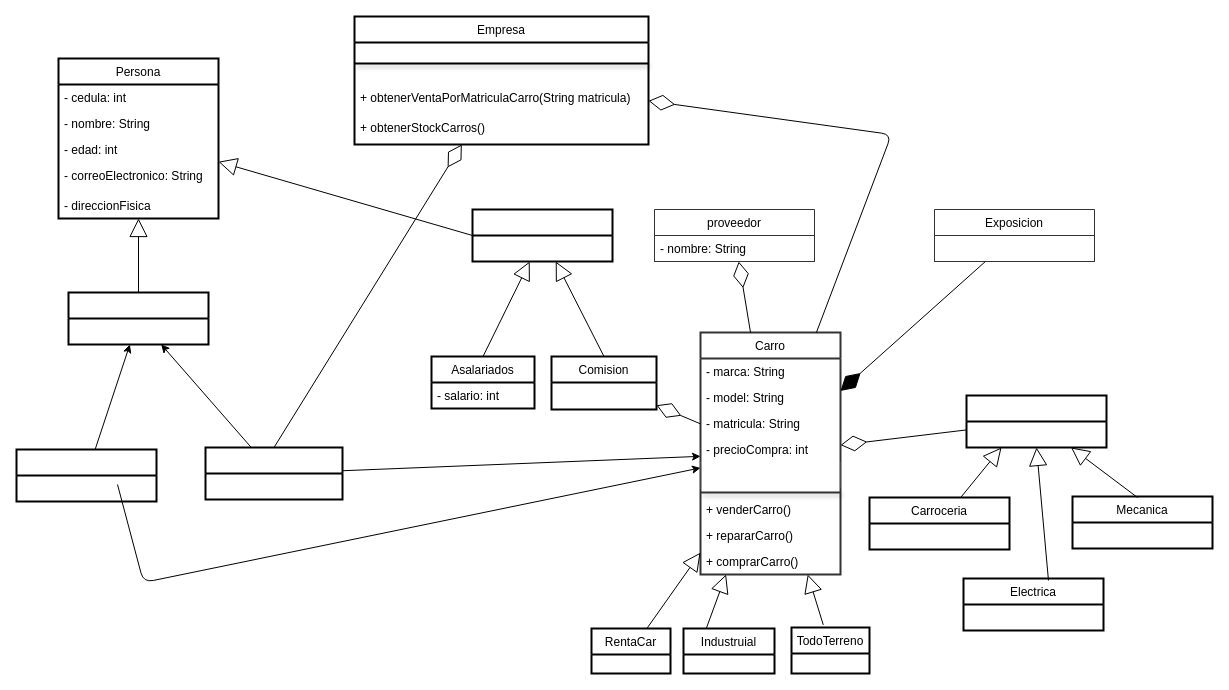
This 1229x690 diagram has some shape labels left out. Each missing label, with the centre of its shape:
"- direccion : String" belongs at [1014,248].
"- precioVenta: int" belongs at [770,475].
"Cliente" belongs at [138,318].
"Reparacion" belongs at [1036,421].
"Reserva" belongs at [86,475].
"Vendedor" belongs at [542,235].
"Venta" belongs at [273,473].
